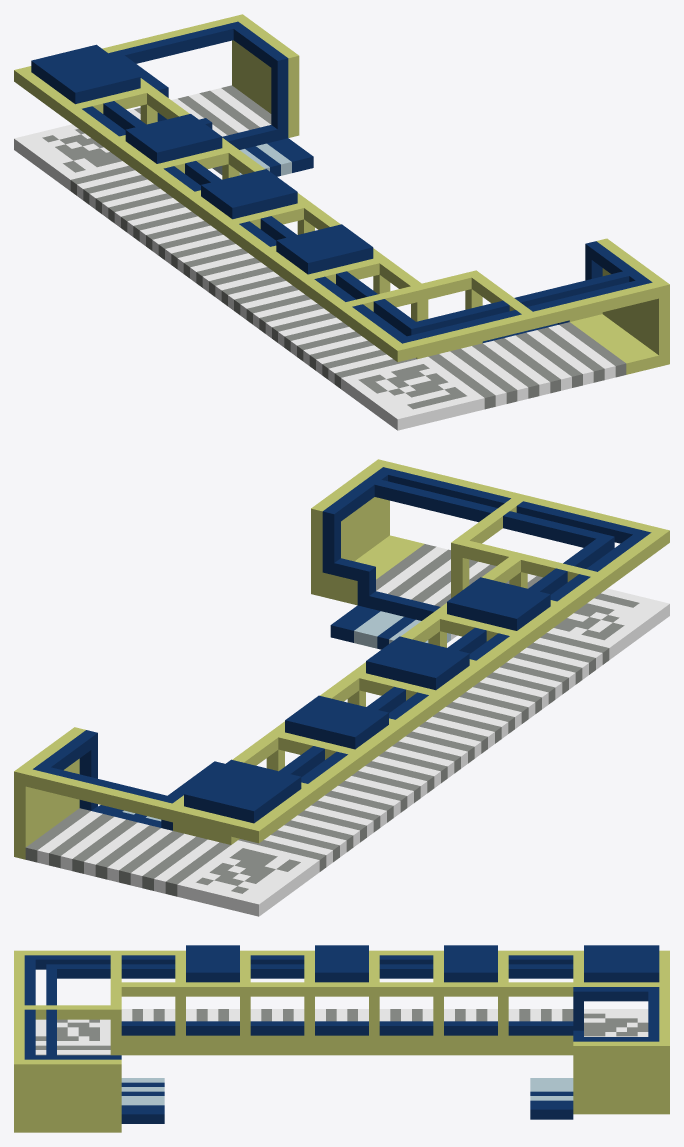
The model's file is Segregate2.obj.
3 views of the same model, one above another, from view 1: azimuth 30°, elevation 25°; view 2: azimuth 150°, elevation 25°; view 3: azimuth 270°, elevation 25° (orthographic). The views are drawn at different scales.
Bounding box in the file's own units: 2.5 × 0.9 × 6.1.
Materials: 1 (1 with a texture image).
